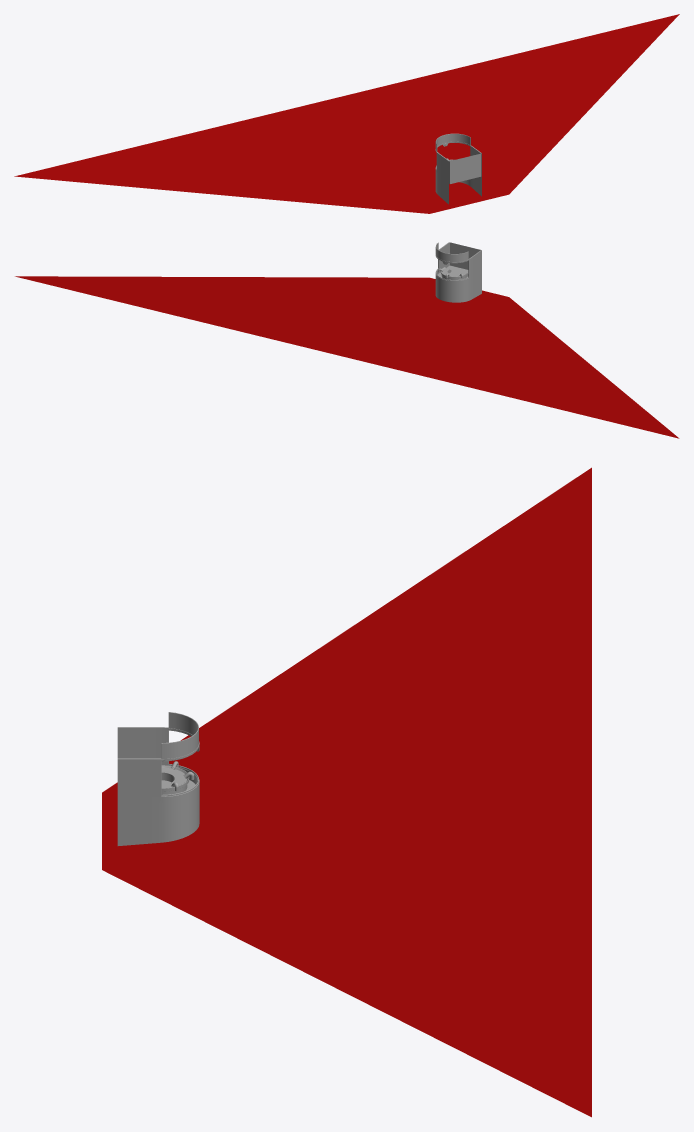
The model's file is PlayArea_03.fbx.
3 views of the same model, one above another, from view 1: azimuth 30°, elevation 25°; view 2: azimuth 150°, elevation 25°; view 3: azimuth 270°, elevation 25° (orthographic). The views are drawn at different scales.
Parts seen in each view (by area): view 1: Play_Area, Cockpit, Gate_Top; view 2: Play_Area, Cockpit, Gate_Top; view 3: Play_Area, Cockpit, Gate_Top.
Boxes of the visible parts, x1=… form: Play_Area: x1=14, y1=14, x2=679, y2=213; Cockpit: x1=435, y1=141, x2=481, y2=204; Gate_Top: x1=435, y1=133, x2=470, y2=151; Play_Area: x1=15, y1=276, x2=679, y2=438; Cockpit: x1=435, y1=242, x2=481, y2=302; Gate_Top: x1=435, y1=242, x2=468, y2=263; Play_Area: x1=102, y1=467, x2=591, y2=1117; Cockpit: x1=117, y1=727, x2=199, y2=845; Gate_Top: x1=161, y1=712, x2=198, y2=761.
Bounding box in the file's own units: 15641 × 1166 × 4981.
